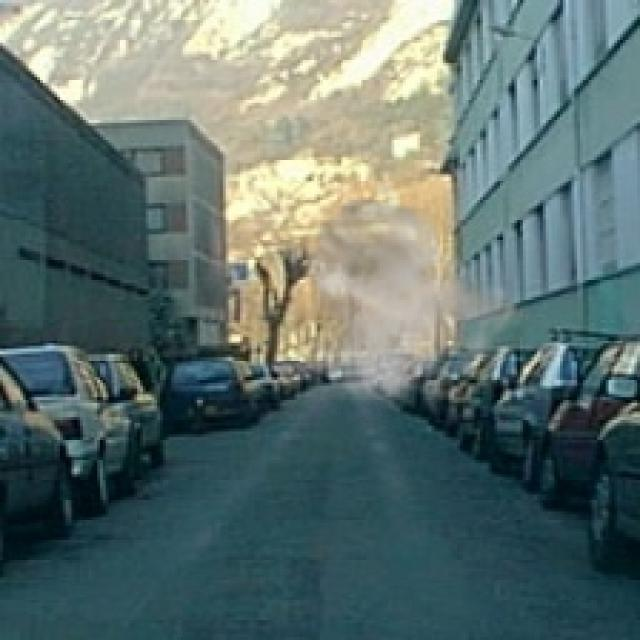Smoke: (280, 177, 534, 414)
